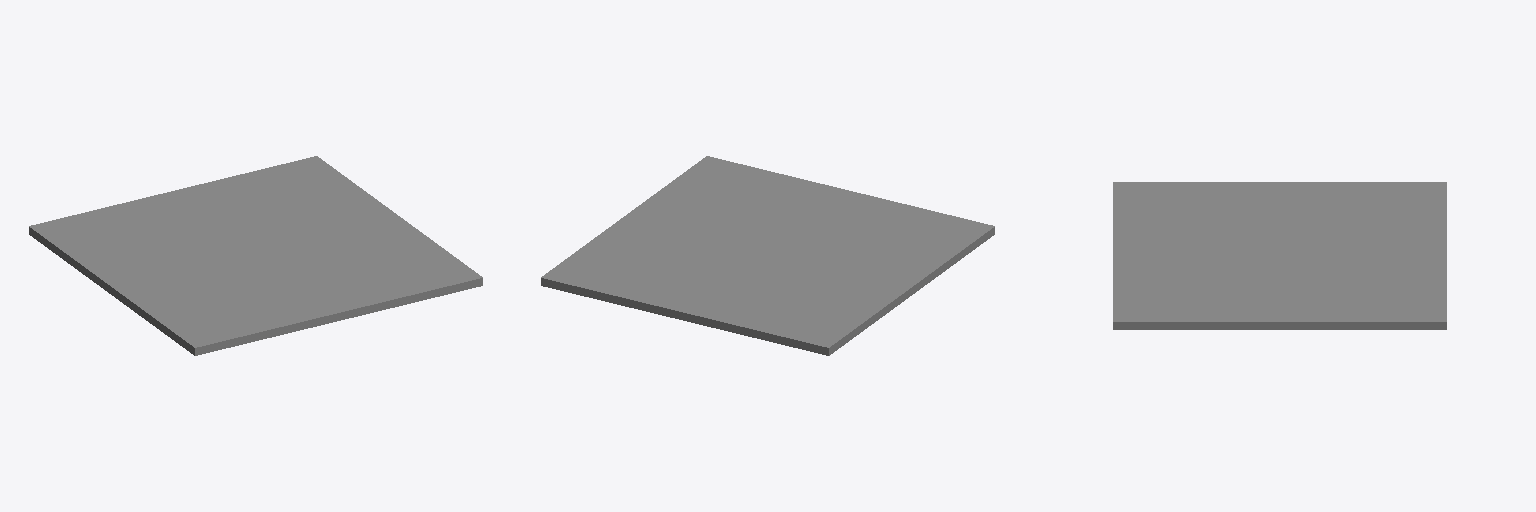
Rendered from floor.obj.
3 views of the same model, side by side, from view 1: azimuth 30°, elevation 25°; view 2: azimuth 150°, elevation 25°; view 3: azimuth 270°, elevation 25° (orthographic).
Visible parts, largest first — view 1: Cube.003; view 2: Cube.003; view 3: Cube.003.
Part boxes in pixels (left/top/right/bottom): Cube.003: left=29, top=156, right=482, bottom=355; Cube.003: left=541, top=156, right=994, bottom=355; Cube.003: left=1113, top=182, right=1446, bottom=329.
Size of the model in its own units: 149 by 4 by 149.